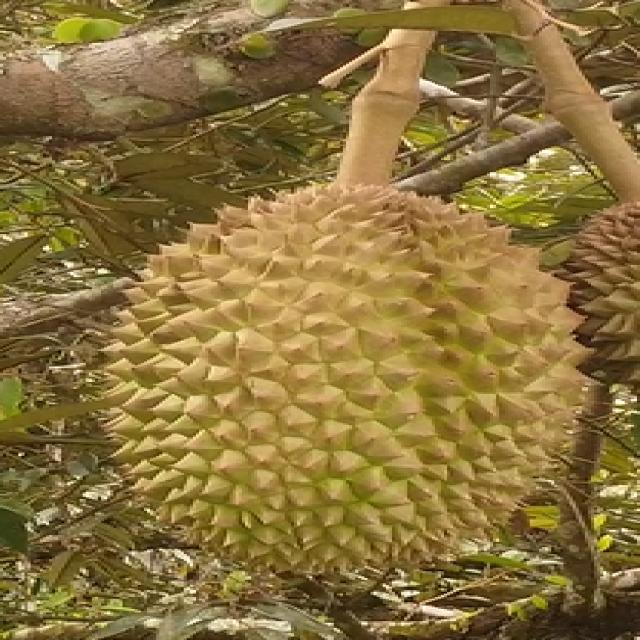mature: (104, 171, 587, 574)
